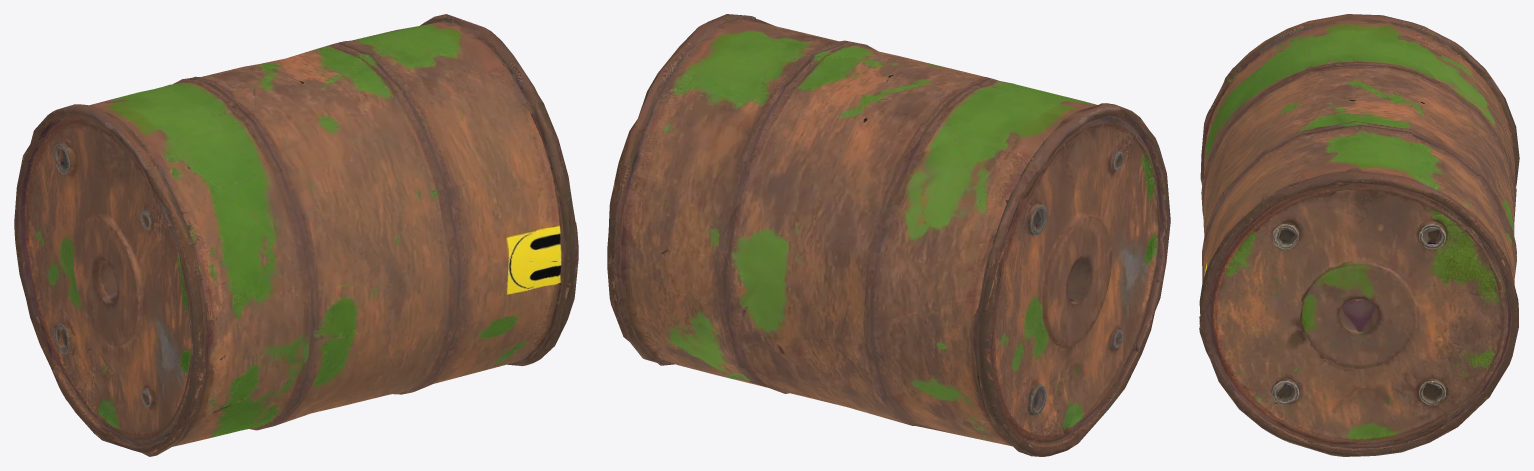
File: trash2.glb
The picture shows the model from 3 angles, left to right: view 1: azimuth 30°, elevation 25°; view 2: azimuth 150°, elevation 25°; view 3: azimuth 270°, elevation 25°; orthographic projection. The views are drawn at different scales.
Visible parts, largest first — view 1: Mesh_0; view 2: Mesh_0; view 3: Mesh_0.
Boxes of the visible parts, bbox=[...] form: Mesh_0: bbox=[14, 14, 578, 456]; Mesh_0: bbox=[607, 14, 1170, 456]; Mesh_0: bbox=[1199, 14, 1519, 456].
Bounding box in the file's own units: 1.9 × 1.54 × 1.57.
Materials: 1 (1 with a texture image).
